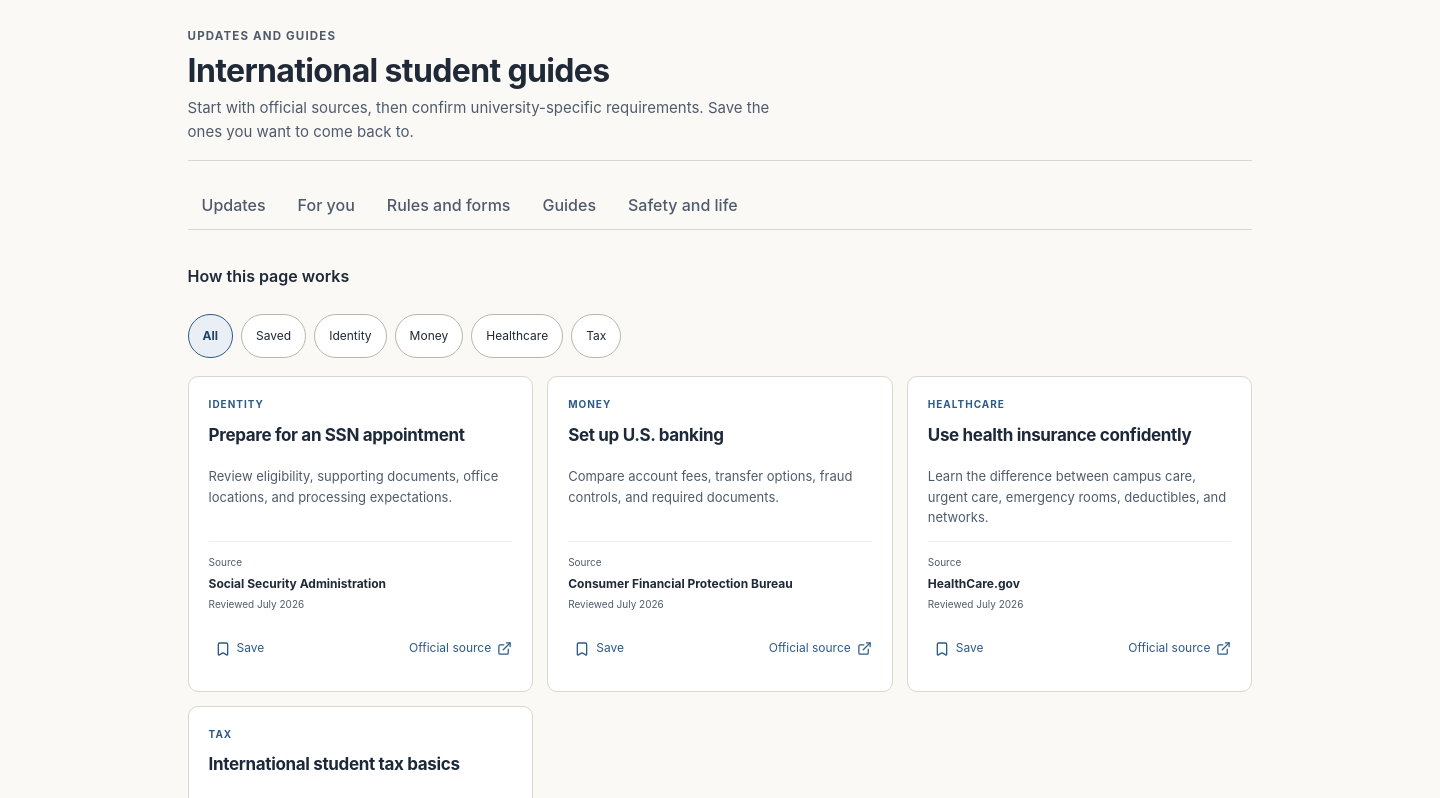
Test: GuidesPage › saves an official guide
Click the button with aria-label "Save Set up U.S. banking" at {"x": 599, "y": 649}, box [568,627,630,671]
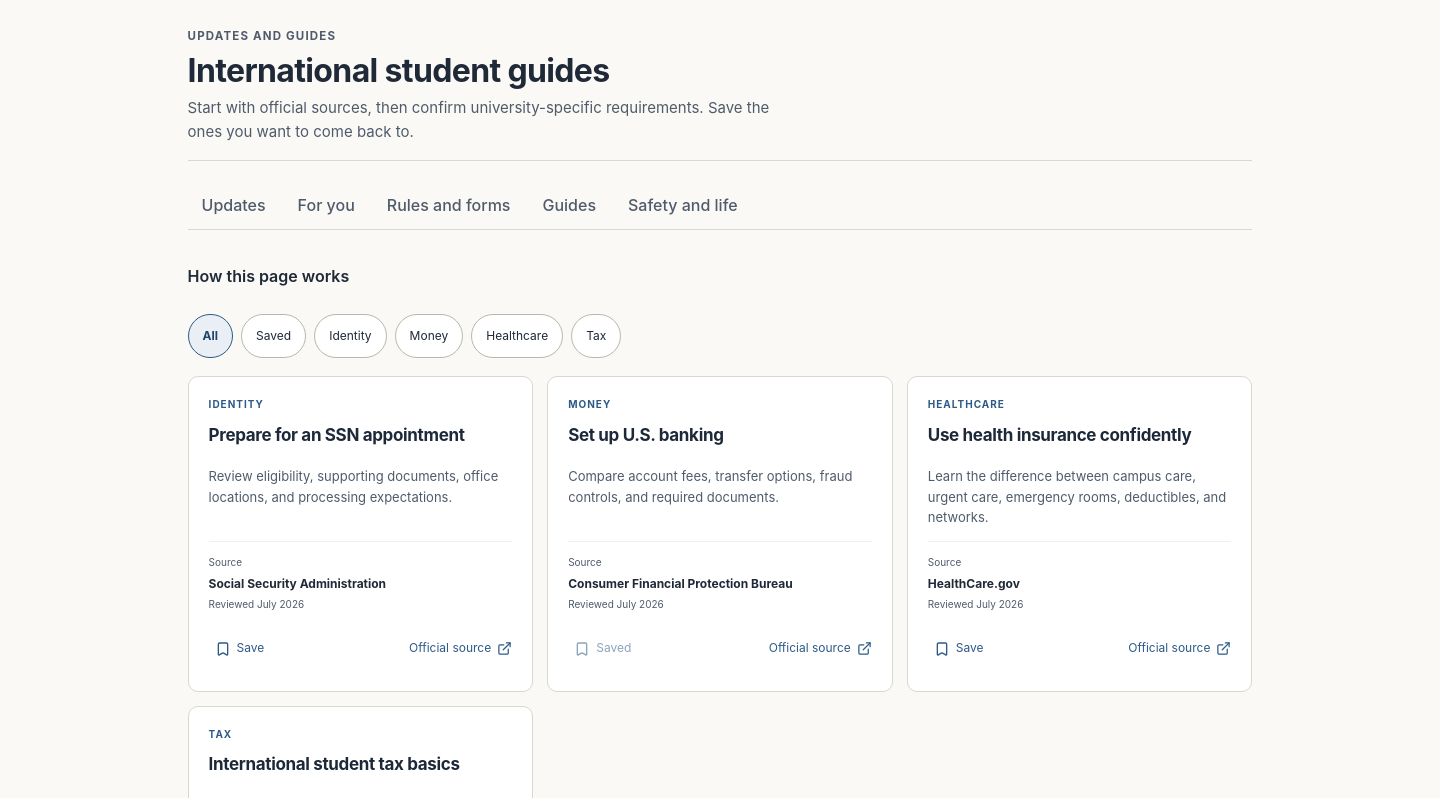
Expected: the button with aria-label "Saved Set up U.S. banking" is disabled, [568,627,637,671]
